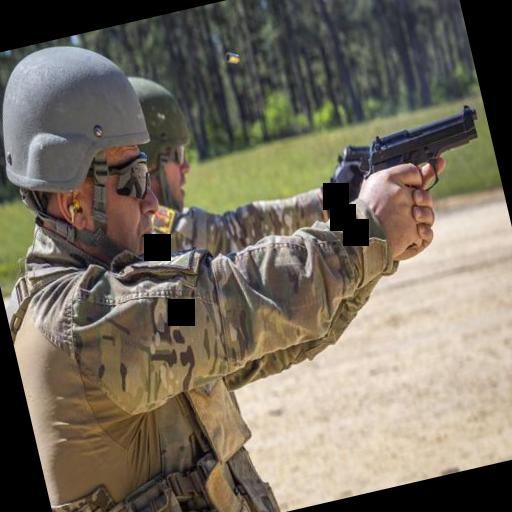Handgun: (350, 100, 492, 204), (332, 135, 374, 172)
